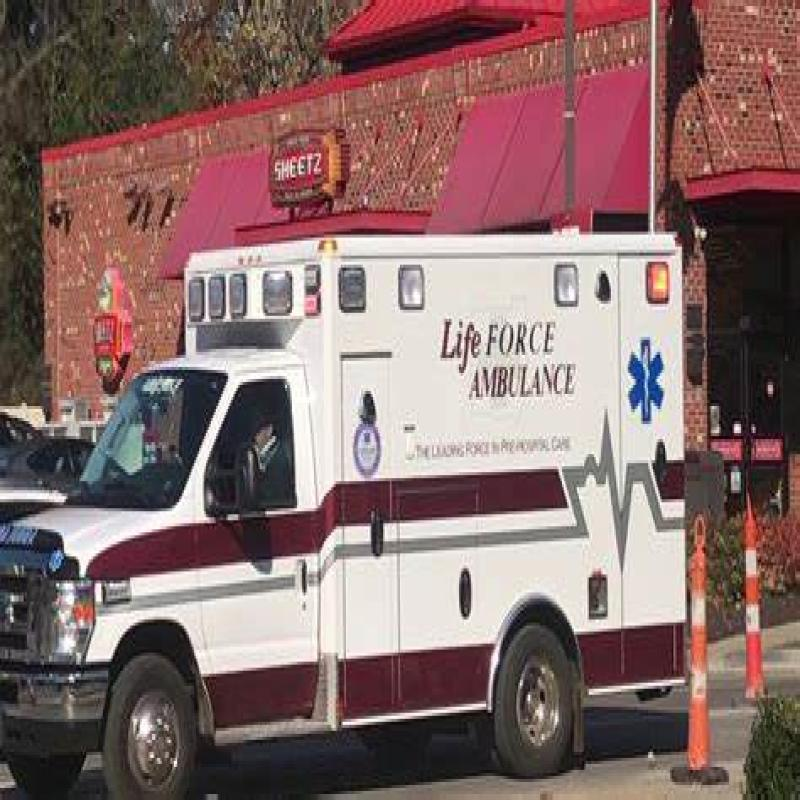AmbulanceSiren: (176, 252, 445, 347)
